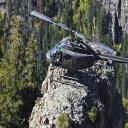helicopter: (31, 11, 128, 88)
